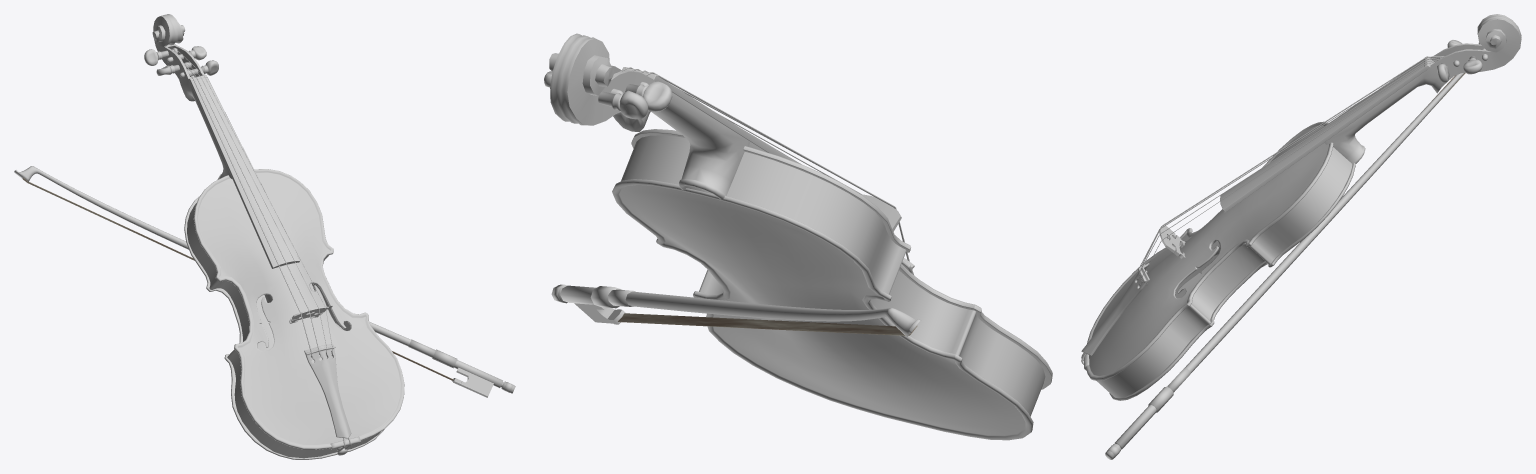
The model's file is Violin1.fbx.
3 renders of one model, left to right at view 1: azimuth 30°, elevation 25°; view 2: azimuth 150°, elevation 25°; view 3: azimuth 270°, elevation 25°, orthographic. The views are drawn at different scales.
Parts seen in each view (by area): view 1: Plane.016, Гриф.006, Обечайки.006, Шейка.009, Подгрифник.003, Plane.017, Cylinder.070, Plane.011, Cylinder.074; view 2: Plane.017, Обечайки.006, Шейка.009, Cylinder.070, Plane.016, Plane.011, Гриф.006, Колки 3.017, Колки 3.019, Plane.015, Cylinder.074, Cylinder.071; view 3: Plane.016, Обечайки.006, Шейка.009, Гриф.006, Cylinder.070, Plane.017, Подгрифник.003, Cylinder.071, Plane.015, Plane.014, Подставка.006, Plane.012.
Part boxes in pixels (<box>): Plane.016: <box>193,169,404,449</box>; Гриф.006: <box>188,74,299,268</box>; Обечайки.006: <box>187,203,380,458</box>; Шейка.009: <box>152,14,232,179</box>; Подгрифник.003: <box>304,344,351,438</box>; Plane.017: <box>184,195,384,459</box>; Cylinder.070: <box>14,166,410,346</box>; Plane.011: <box>22,177,453,380</box>; Cylinder.074: <box>452,367,493,397</box>; Plane.017: <box>612,179,1033,440</box>; Обечайки.006: <box>621,135,1045,416</box>; Шейка.009: <box>549,33,750,199</box>; Cylinder.070: <box>625,291,920,336</box>; Plane.016: <box>631,129,1052,389</box>; Plane.011: <box>618,313,917,335</box>; Гриф.006: <box>622,67,801,164</box>; Колки 3.017: <box>598,90,648,119</box>; Колки 3.019: <box>625,81,672,111</box>; Plane.015: <box>645,72,909,261</box>; Cylinder.074: <box>574,303,625,324</box>; Cylinder.071: <box>551,285,596,304</box>; Plane.016: <box>1086,121,1333,380</box>; Обечайки.006: <box>1097,147,1352,397</box>; Шейка.009: <box>1324,14,1521,163</box>; Гриф.006: <box>1220,56,1430,212</box>; Cylinder.070: <box>1185,73,1464,372</box>; Plane.017: <box>1109,163,1355,400</box>; Подгрифник.003: <box>1081,263,1149,355</box>; Cylinder.071: <box>1105,405,1156,459</box>; Plane.015: <box>1141,56,1441,266</box>; Plane.014: <box>1139,56,1444,267</box>; Подставка.006: <box>1159,226,1185,260</box>; Plane.012: <box>1139,59,1439,276</box>.
Size of the model in its own units: 365 by 322 by 352.
